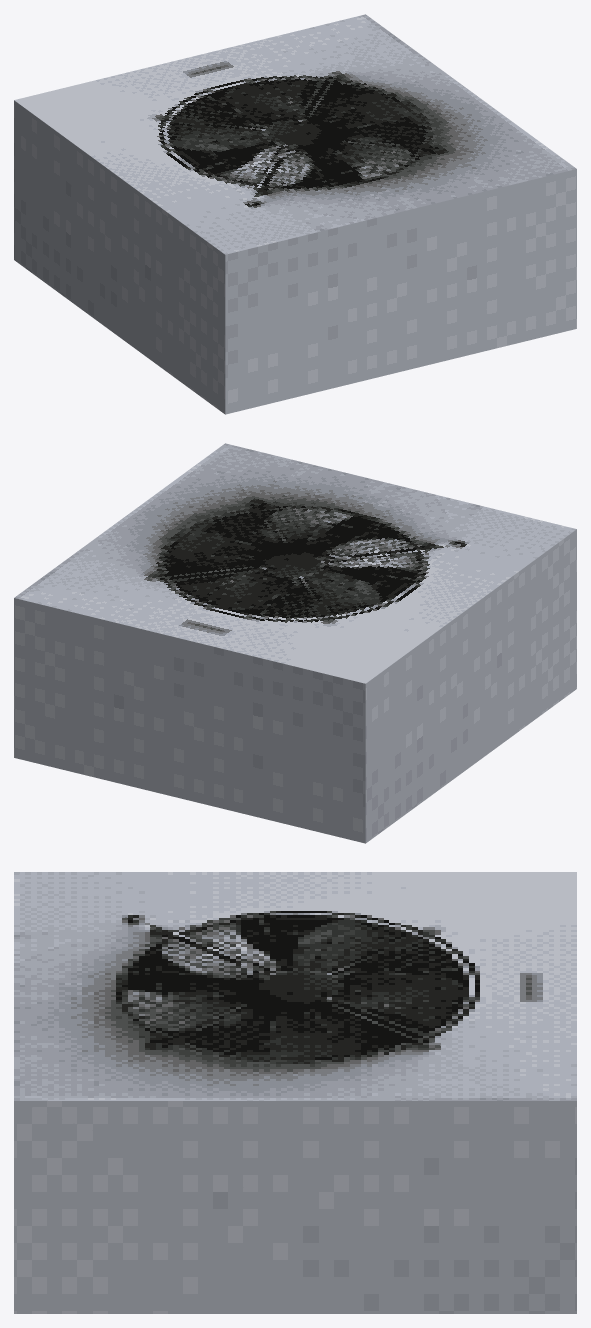
Rendered from Industrial_Air_Conditioner_2.glb.
3 views of the same model, one above another, from view 1: azimuth 30°, elevation 25°; view 2: azimuth 150°, elevation 25°; view 3: azimuth 270°, elevation 25° (orthographic). The views are drawn at different scales.
Visible parts, largest first — view 1: Industrial Air Conditioner_2; view 2: Industrial Air Conditioner_2; view 3: Industrial Air Conditioner_2.
Part boxes in pixels (x1,y1,x2,y2): Industrial Air Conditioner_2: (14,14,576,414); Industrial Air Conditioner_2: (14,443,576,843); Industrial Air Conditioner_2: (14,872,576,1313).
Bounding box in the file's own units: 0.4036 × 0.1753 × 0.4198.
Materials: 1 (1 with a texture image).
